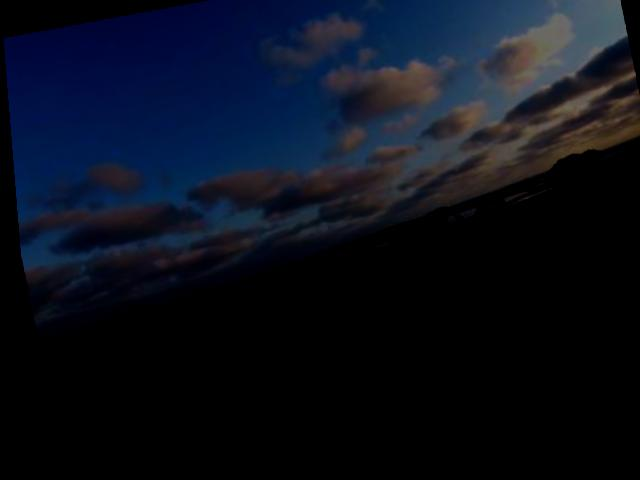uav: (431, 374, 476, 407)
